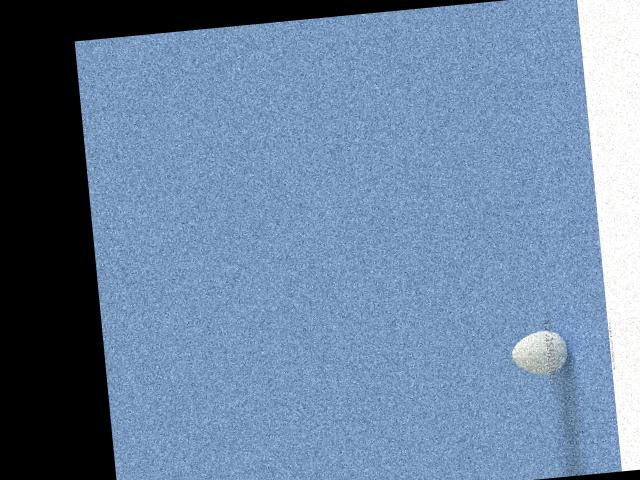egg: (510, 328, 569, 376)
